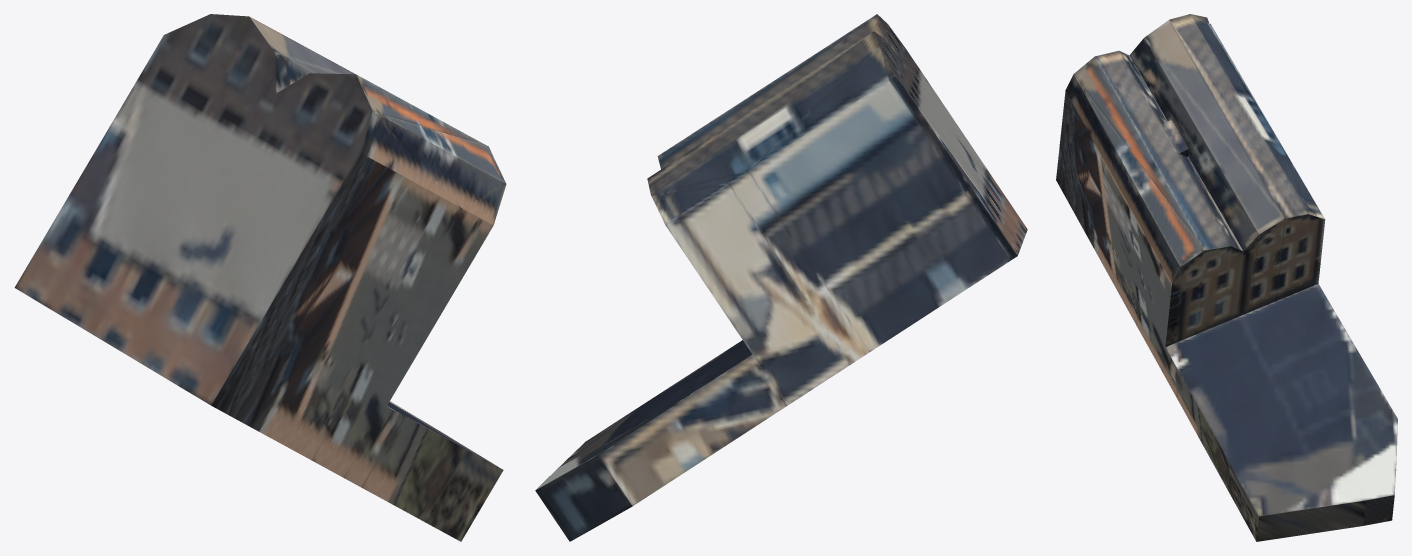
3 renders of one model, left to right at view 1: azimuth 30°, elevation 25°; view 2: azimuth 150°, elevation 25°; view 3: azimuth 270°, elevation 25°, orthographic. The views are drawn at different scales.
Parts seen in each view (by area): view 1: BAG_0599100000656917 (×7); view 2: BAG_0599100000656917 (×6); view 3: BAG_0599100000656917 (×9).
Boxes of the visible parts, x1=… form: BAG_0599100000656917 (×7): x1=14, y1=14, x2=506, y2=541; BAG_0599100000656917 (×6): x1=535, y1=14, x2=1027, y2=541; BAG_0599100000656917 (×9): x1=1056, y1=14, x2=1397, y2=541.
Bounding box in the file's own units: 23.74 × 27.16 × 19.5.
Materials: 2 (1 with a texture image).
